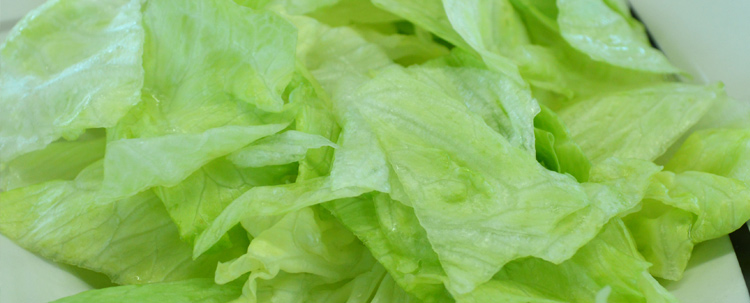chopped lettuce: (11, 5, 733, 294)
